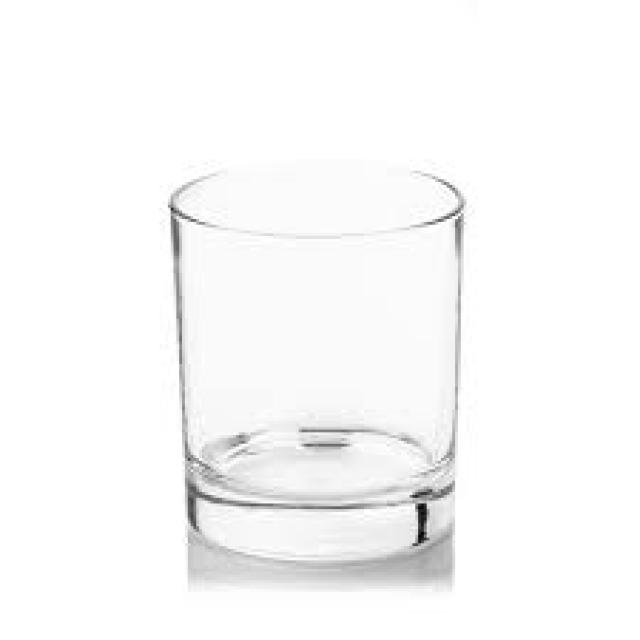Dry: (166, 162, 468, 564)
